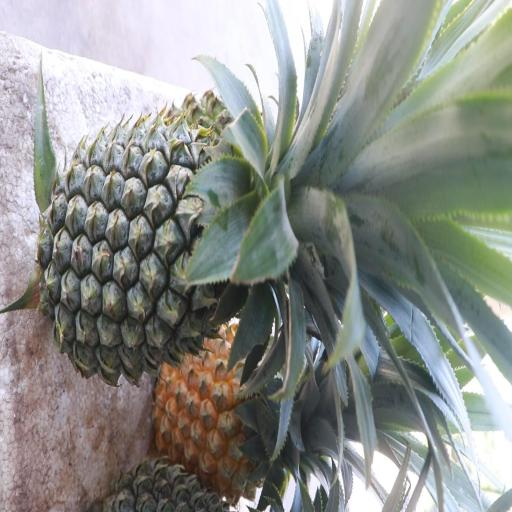Pineapple - v8 v1: (158, 340, 310, 496)
